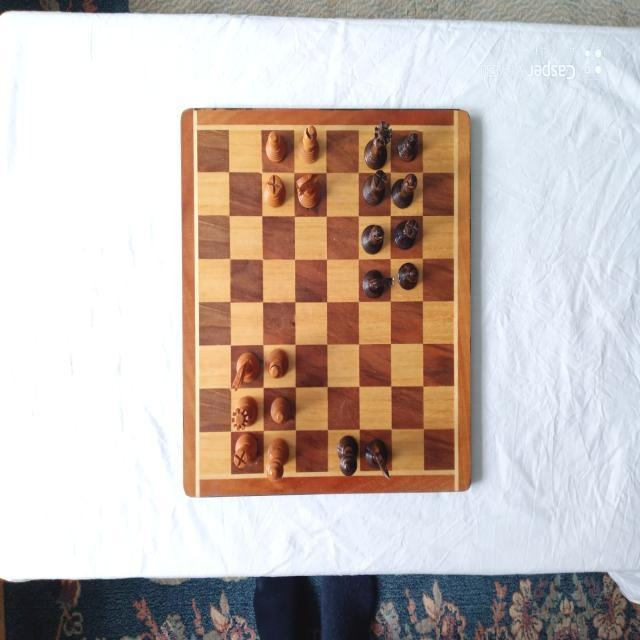black-bishop: (390, 174, 418, 210), (361, 221, 387, 255)
black-king: (335, 435, 361, 476)
black-knight: (364, 436, 392, 478), (362, 266, 394, 298)
black-pawn: (396, 127, 422, 165), (397, 261, 422, 291)
black-queen: (363, 121, 395, 171)
black-rook: (392, 217, 420, 251), (363, 172, 389, 208)
white-bishop: (296, 124, 320, 164), (266, 349, 290, 381)
white-king: (266, 437, 292, 483)
white-knight: (229, 351, 263, 393), (294, 173, 326, 211)
white-pawn: (268, 397, 293, 427), (264, 130, 287, 162)
white-queen: (230, 396, 260, 432)
white-rook: (232, 432, 260, 470), (265, 174, 287, 210)
